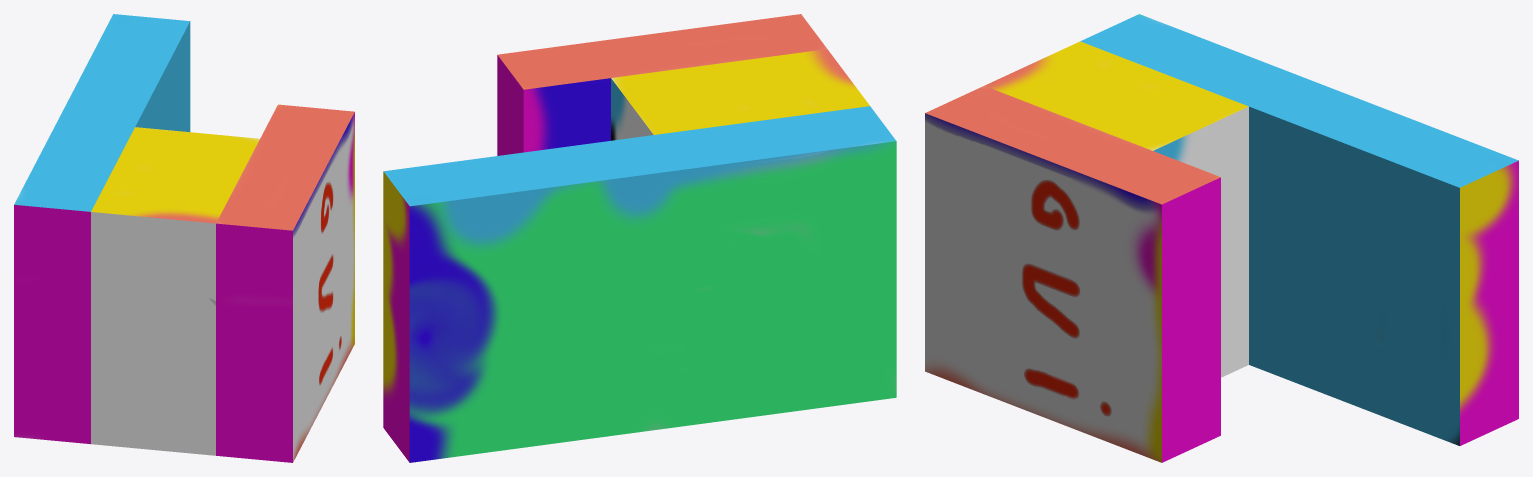
File: funky_cube.obj
The picture shows the model from 3 angles, left to right: view 1: azimuth 30°, elevation 25°; view 2: azimuth 150°, elevation 25°; view 3: azimuth 270°, elevation 25°; orthographic projection. The views are drawn at different scales.
Parts seen in each view (by area): view 1: Cube; view 2: Cube; view 3: Cube.
Boxes of the visible parts, x1,y1,x2,y2 form: Cube: (14, 14, 354, 462); Cube: (383, 14, 896, 462); Cube: (925, 14, 1518, 462).
Size of the model in its own units: 30.72 by 19.42 by 40.46.
1 material, 1 textured.
